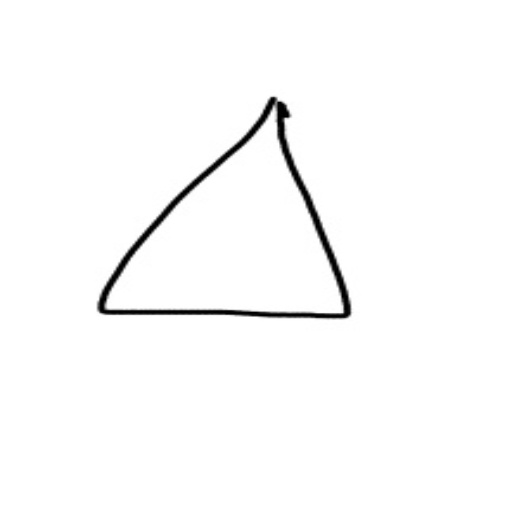triangle: (90, 89, 363, 316)
